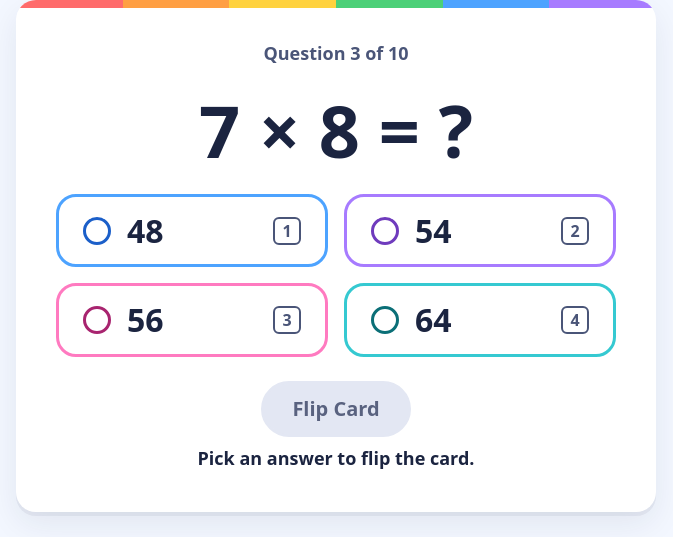
Test case: QuestionCard back › locks the answers once flipped
Click the button "54 2".
click(433, 231)  # box [344,194,616,267]
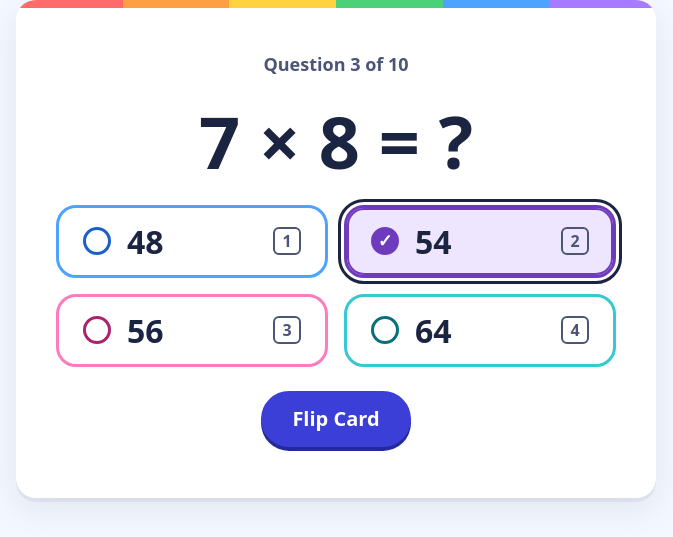
Click the button "Flip Card".
click(336, 419)  # box [261,391,411,447]
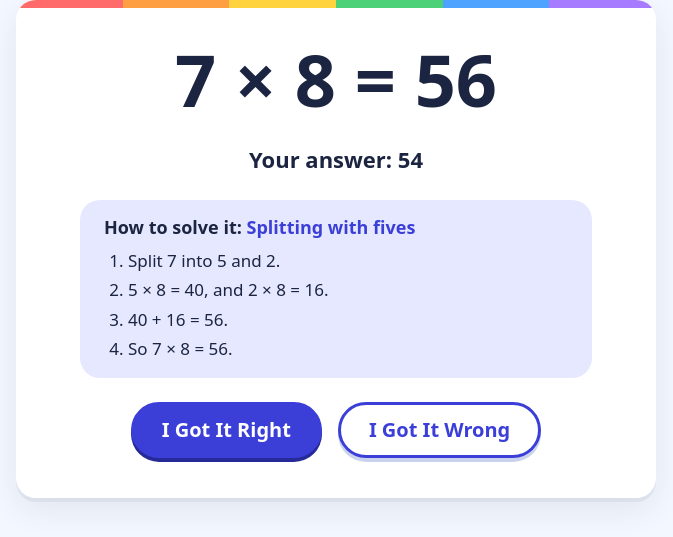
Expected: the button "48 1" is disabled, [344,205,616,278]
Expected: the button "✓ 54 2" is disabled, [56,205,328,278]
Expected: the button "56 3" is disabled, [344,294,616,367]
